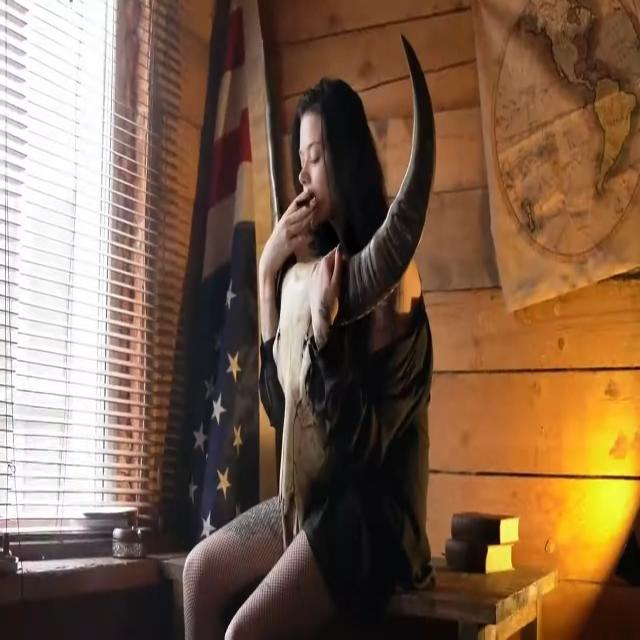Курение: (292, 194, 316, 212)
